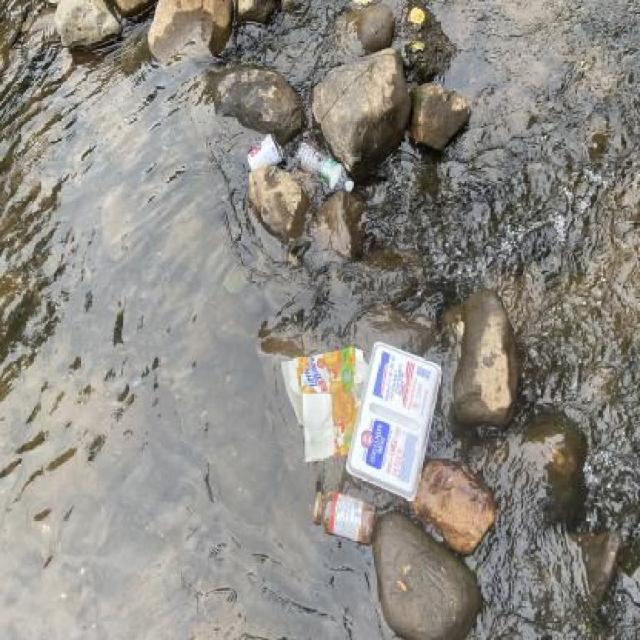Bottle-Glass: (310, 487, 382, 548)
Can-Metal: (246, 131, 286, 178)
Cardboard: (279, 342, 442, 499)
Plastic: (291, 138, 357, 198)
